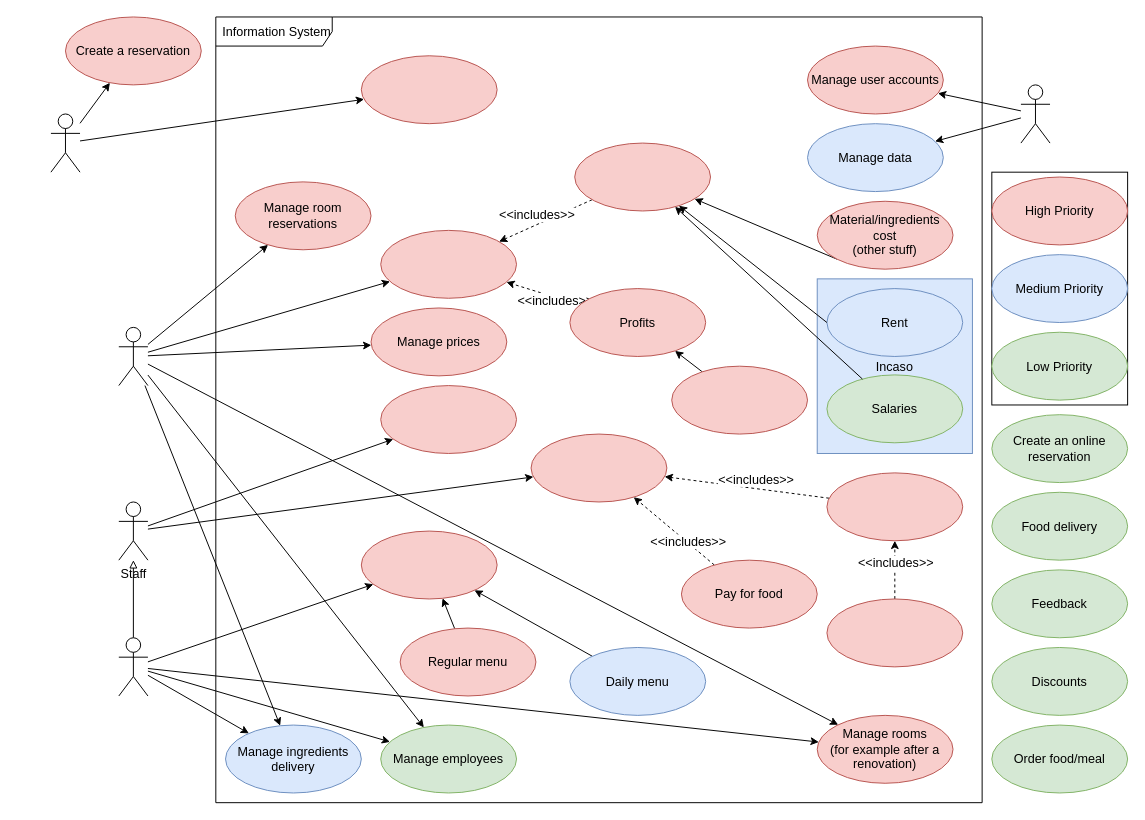
Image size: 1145x820. Some labels were removed from this diagram. Here are the shapes that lost their labels. From the top down, the centre of each, then its label:
At point 428,89: "Check/display menu".
At point 1035,113: "Admin".
At point 65,142: "Anonymous User".
At point 642,176: "Expenses".
At point 448,263: "Display summaries (cost analysis)".
At point 133,356: "Manager".
At point 448,419: "Manage customer reservations".
At point 739,399: "Payments/orders".
At point 598,467: "Cash register".
At point 894,506: "Link food orders to tables".
At point 428,564: "Create and manage menus".
At point 894,632: "Catalog of meals".
At point 133,666: "Main Chef".
